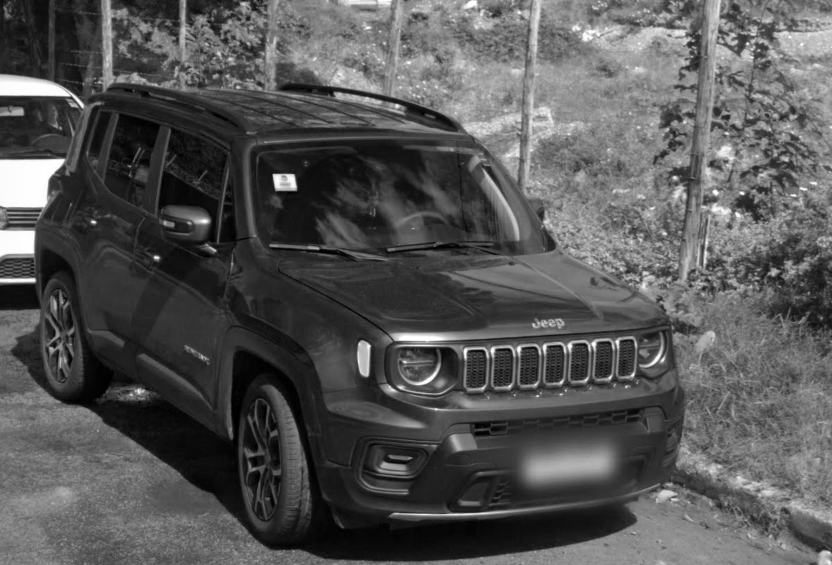car: (40, 83, 685, 544)
